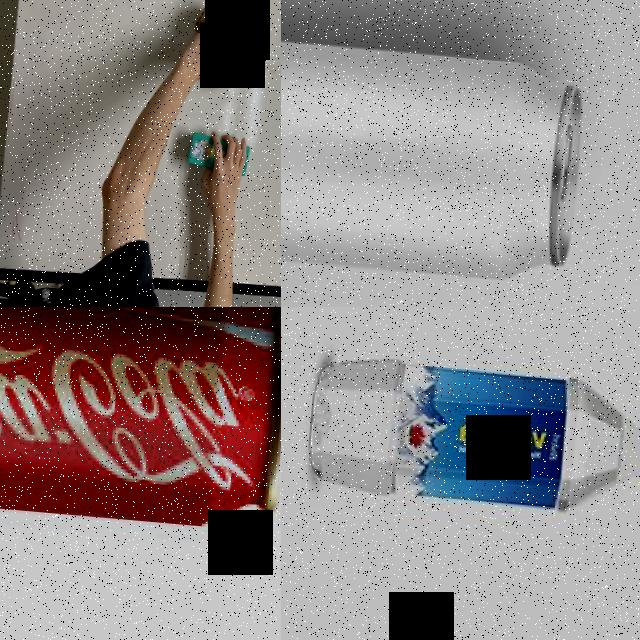bottle: (301, 350, 640, 525)
can: (281, 26, 587, 289), (0, 307, 281, 540)
cup: (186, 0, 263, 87)
